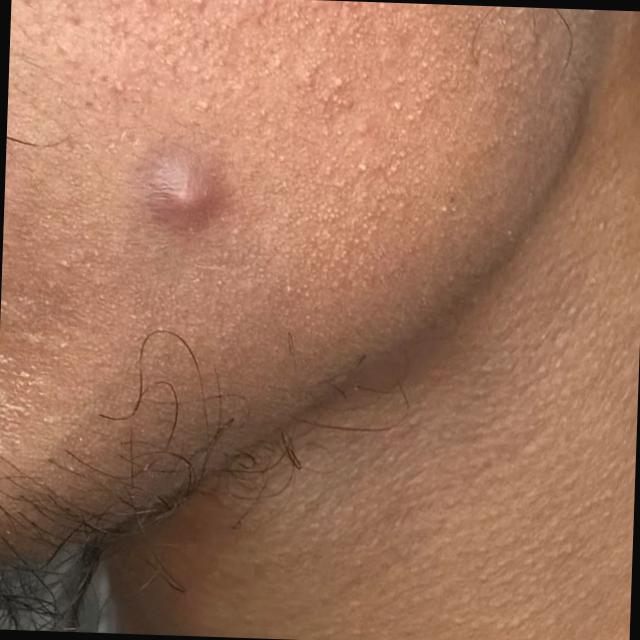nodule: (142, 150, 225, 228)
